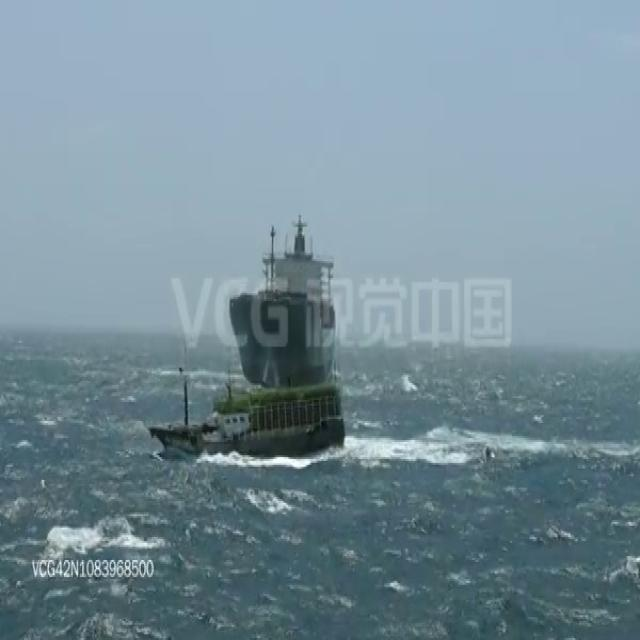cargoship: (230, 213, 341, 380)
fishing boat: (149, 364, 345, 463)
